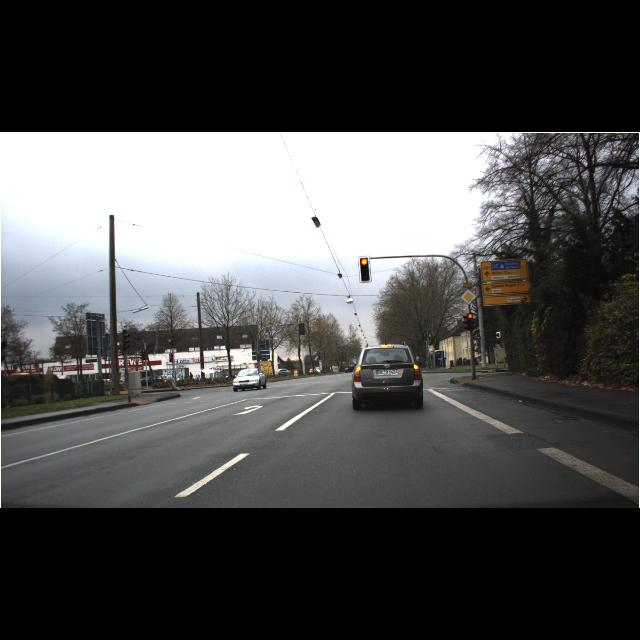other: (460, 288, 476, 306)
